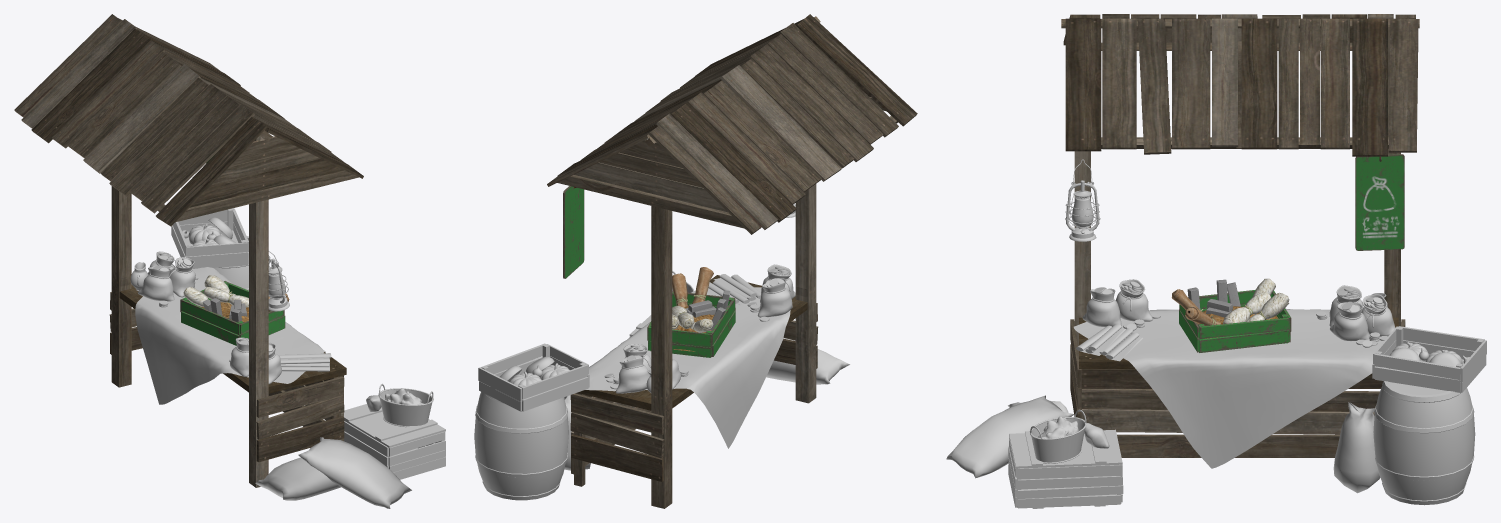
Rendered from Market.fbx.
3 views of the same model, side by side, from view 1: azimuth 30°, elevation 25°; view 2: azimuth 150°, elevation 25°; view 3: azimuth 270°, elevation 25° (orthographic). The views are drawn at different scales.
Visible parts, largest first — view 1: SM_Market_Sphere.mo, SM_MarketProp_Item.mo, SM_MarketCoin.mo; view 2: SM_Market_Sphere.mo, SM_MarketProp_Item.mo, SM_MarketCoin.mo; view 3: SM_Market_Sphere.mo, SM_MarketProp_Item.mo, SM_MarketCoin.mo.
Boxes of the visible parts, x1=… form: SM_Market_Sphere.mo: x1=14, y1=14, x2=445, y2=508; SM_MarketProp_Item.mo: x1=180, y1=156, x2=289, y2=345; SM_MarketCoin.mo: x1=137, y1=251, x2=281, y2=384; SM_Market_Sphere.mo: x1=474, y1=14, x2=917, y2=508; SM_MarketProp_Item.mo: x1=563, y1=186, x2=735, y2=357; SM_MarketCoin.mo: x1=604, y1=264, x2=795, y2=393; SM_Market_Sphere.mo: x1=946, y1=14, x2=1486, y2=508; SM_MarketProp_Item.mo: x1=1171, y1=154, x2=1404, y2=352; SM_MarketCoin.mo: x1=1082, y1=279, x2=1395, y2=347.
Bounding box in the file's own units: 284 × 382 × 453.
